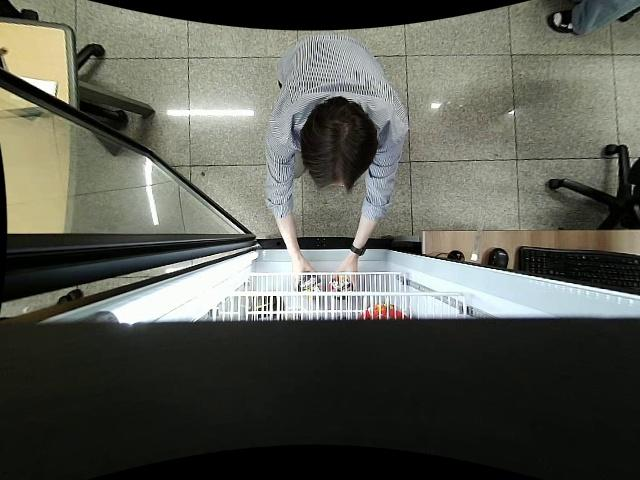00_hand: (333, 262, 360, 292), (289, 258, 315, 288)
08_buldak_S: (329, 275, 353, 300), (297, 271, 320, 297)
